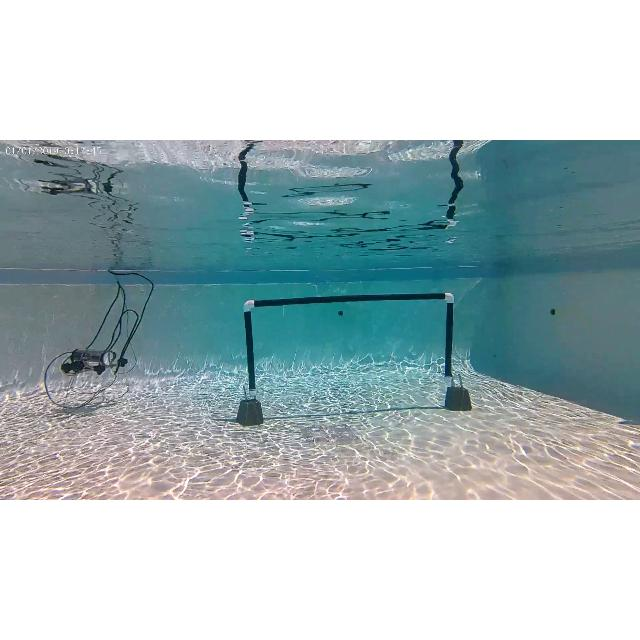prequal gate: (244, 292, 454, 402)
prequal gate leg l: (238, 298, 260, 422)
prequal gate leg r: (442, 286, 470, 406)
